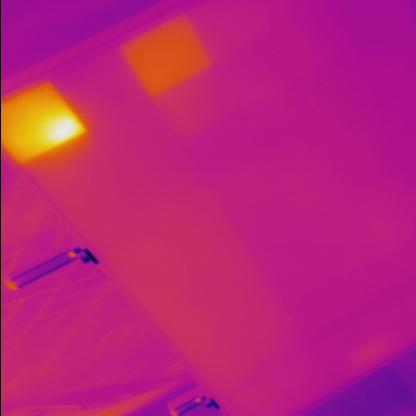hotspot: (0, 342, 114, 415)
